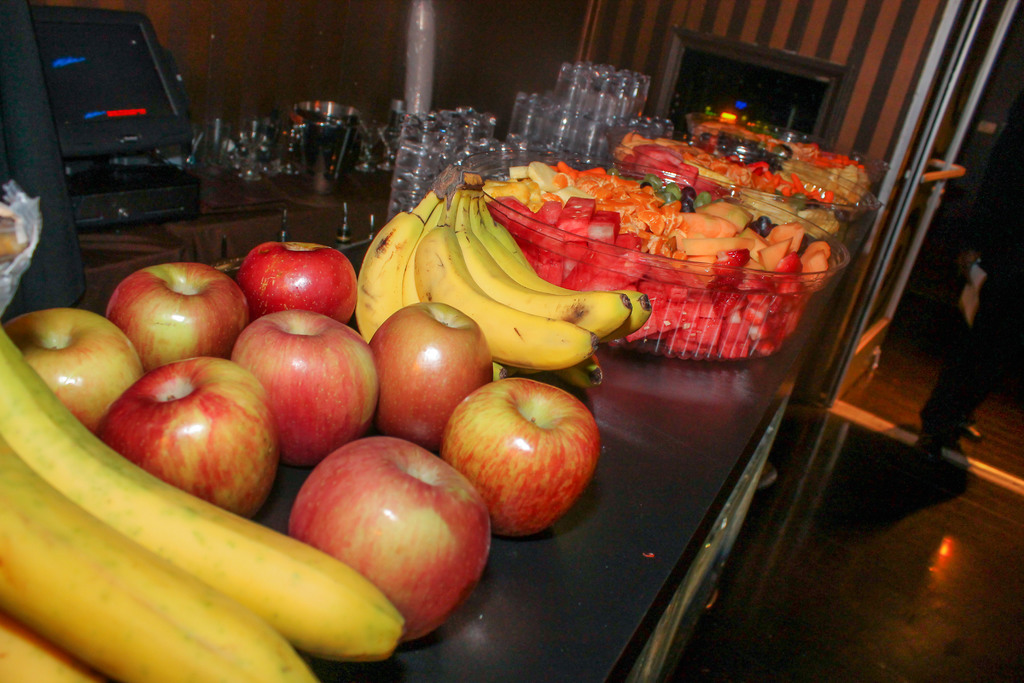Apple: (1, 238, 497, 643), (429, 371, 599, 540)
